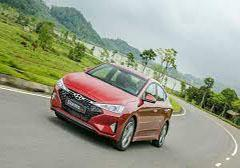car: (39, 52, 187, 161)
